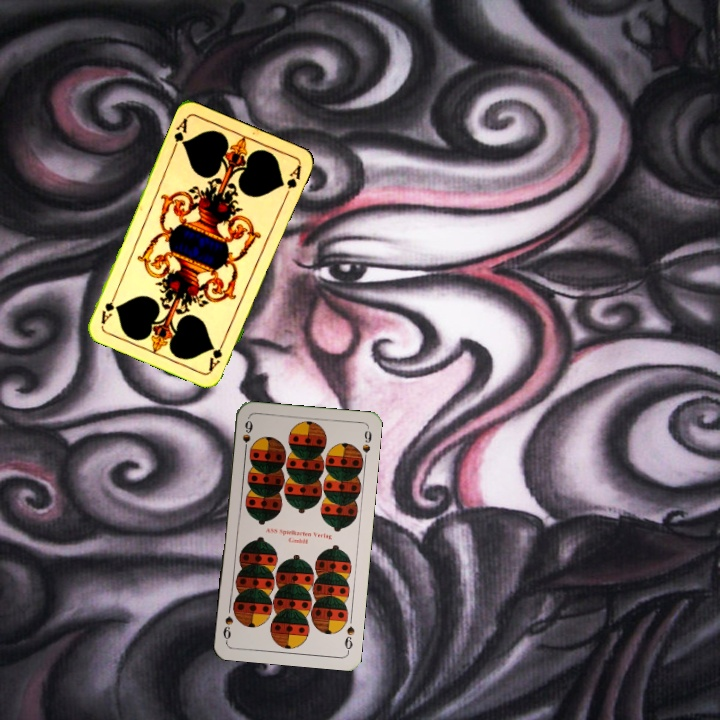GA: (205, 335, 228, 374), (169, 114, 190, 153)
S9: (238, 416, 255, 456), (340, 622, 357, 655)
